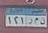1: (7, 15, 12, 26), (20, 16, 25, 26)
2: (14, 16, 19, 25)
ر: (28, 15, 34, 25)
م: (33, 16, 39, 26)
ن: (40, 16, 46, 26)
